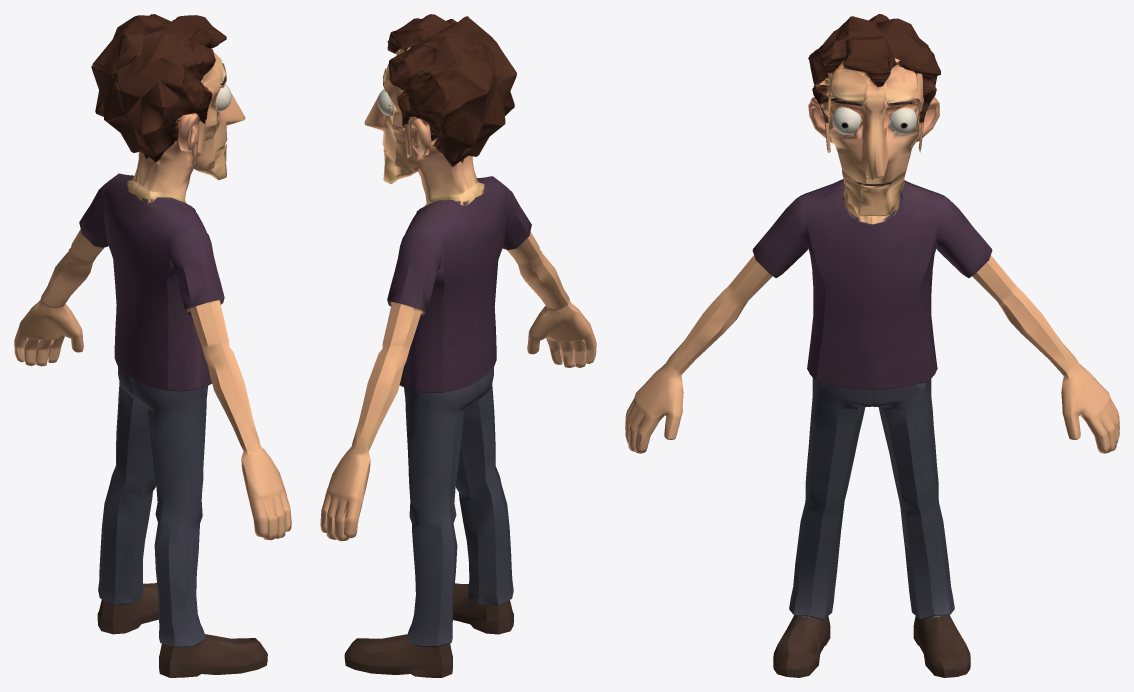
The model's file is character_base.glb.
The picture shows the model from 3 angles, left to right: view 1: azimuth 30°, elevation 25°; view 2: azimuth 150°, elevation 25°; view 3: azimuth 270°, elevation 25°; orthographic projection.
Visible parts, largest first — view 1: pants, shirt, hair, arm_r, head, arm_l, shoe_r, shoe_l; view 2: pants, shirt, hair, arm_l, head, arm_r, shoe_l, shoe_r; view 3: shirt, pants, head, arm_l, arm_r, hair, shoe_r, shoe_l.
Boxes of the visible parts, x1,y1,x2,y2 form: pants: (98, 366, 207, 647); shirt: (79, 173, 224, 391); hair: (91, 14, 226, 161); arm_r: (190, 300, 291, 540); head: (126, 46, 245, 204); arm_l: (14, 229, 104, 366); shoe_r: (159, 634, 267, 677); shoe_l: (97, 582, 158, 634); pants: (404, 367, 513, 647); shirt: (387, 176, 531, 392); hair: (387, 14, 516, 164); arm_l: (320, 302, 421, 541); head: (364, 48, 484, 206); arm_r: (507, 232, 596, 367); shoe_l: (344, 634, 452, 677); shoe_r: (453, 583, 513, 634); shirt: (752, 179, 992, 389); pants: (789, 378, 954, 619); head: (808, 64, 939, 224); arm_l: (972, 255, 1119, 453); arm_r: (625, 255, 772, 453); hair: (808, 14, 940, 122); shoe_r: (773, 615, 830, 677); shoe_l: (913, 615, 970, 677).
Bounding box in the file's own units: 0.229 × 0.9998 × 0.7144.
Materials: 8 (7 with a texture image).
